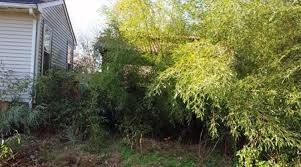bamboo: (127, 2, 236, 141), (233, 1, 301, 167)
